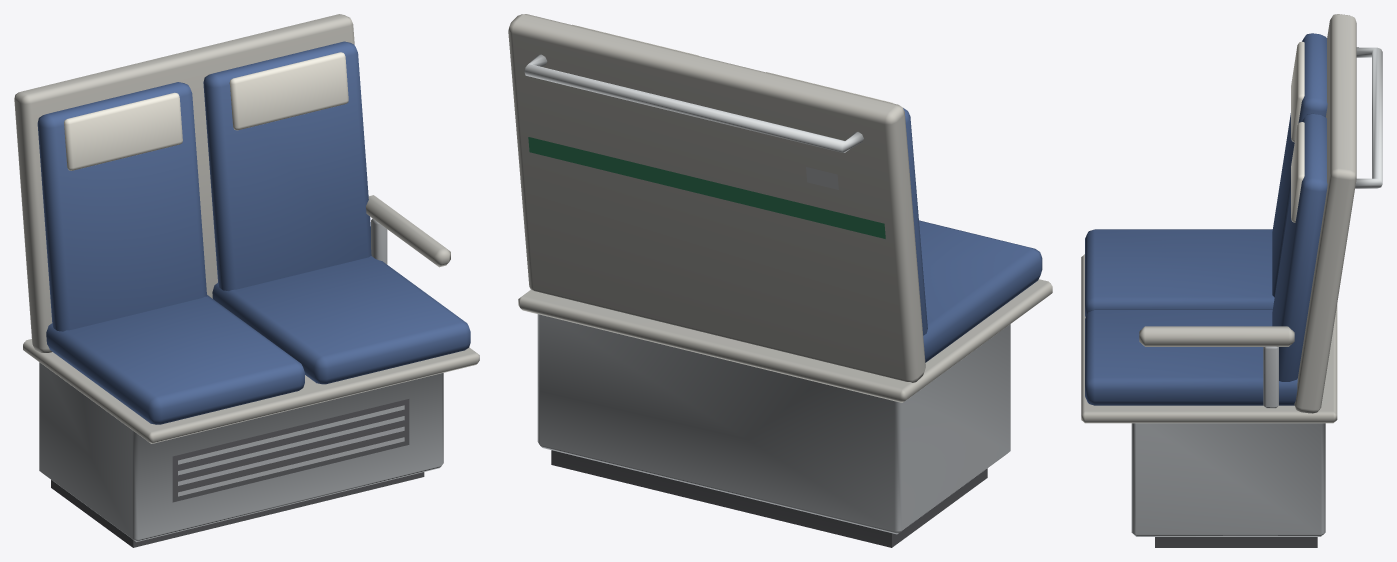
File: seat_pair.glb
3 renders of one model, left to right at view 1: azimuth 30°, elevation 25°; view 2: azimuth 150°, elevation 25°; view 3: azimuth 270°, elevation 25°, orthographic. The views are drawn at different scales.
Parts seen in each view (by area): view 1: train_seat_pair; view 2: train_seat_pair; view 3: train_seat_pair.
Boxes of the visible parts, box(x1,y1,x2,y2) form: train_seat_pair: box(14, 14, 479, 547); train_seat_pair: box(508, 14, 1052, 547); train_seat_pair: box(1081, 14, 1382, 547).
Bounding box in the file's own units: 0.985 × 1.1 × 0.7776.
